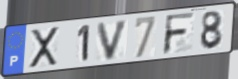1: (75, 23, 90, 64)
7: (133, 16, 159, 60)
8: (200, 10, 225, 51)
F: (161, 11, 197, 57)
V: (95, 18, 131, 62)
X: (29, 25, 60, 70)
